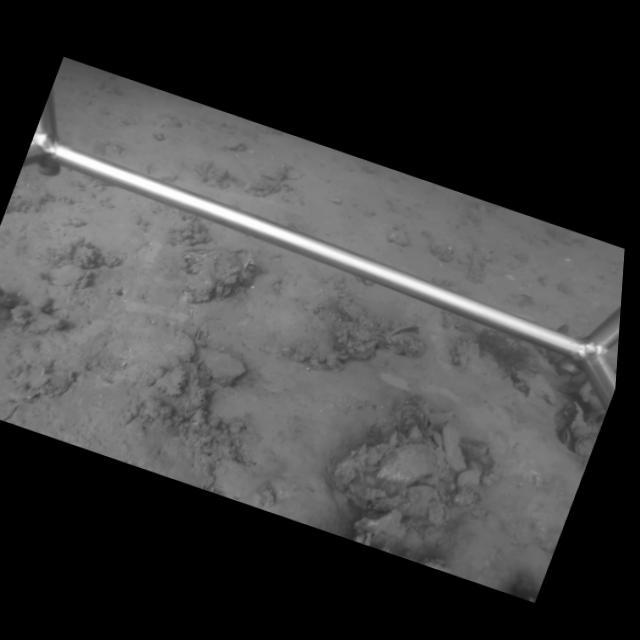Oyster-Closed: (376, 444, 443, 487), (198, 344, 248, 387), (332, 442, 367, 493), (439, 420, 467, 473), (46, 262, 88, 287), (185, 271, 215, 303)
Oyster-Open: (382, 320, 422, 355)
